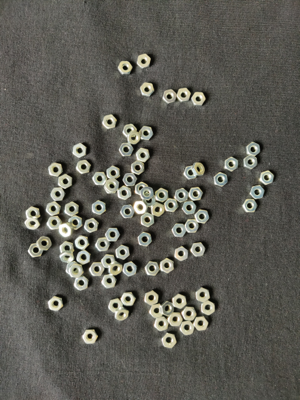nut: (83, 329, 99, 345), (162, 333, 177, 349), (48, 296, 63, 312), (193, 316, 209, 331), (196, 287, 211, 303), (36, 236, 52, 251), (84, 218, 99, 234), (92, 200, 107, 216), (102, 114, 118, 129), (191, 92, 207, 107), (180, 321, 195, 336), (154, 317, 169, 332), (191, 242, 206, 257), (145, 262, 160, 277), (102, 274, 117, 289), (74, 276, 89, 291), (69, 264, 84, 279), (68, 216, 83, 231), (48, 163, 63, 178), (243, 155, 258, 170), (140, 186, 155, 201), (105, 178, 120, 193), (76, 160, 91, 175), (136, 148, 151, 163), (139, 126, 154, 141), (121, 293, 137, 307), (95, 238, 111, 252), (138, 232, 152, 248), (47, 216, 63, 230), (25, 217, 41, 231), (46, 202, 62, 216), (120, 205, 136, 219), (182, 201, 198, 215), (137, 54, 151, 70), (168, 313, 183, 327), (202, 301, 216, 316), (182, 307, 197, 321), (173, 294, 187, 309), (160, 301, 174, 316), (145, 291, 159, 306), (115, 307, 129, 322), (175, 247, 189, 262), (123, 262, 137, 277), (90, 263, 105, 277), (108, 262, 123, 276), (75, 236, 90, 250), (28, 244, 43, 258), (105, 228, 120, 242), (185, 219, 200, 233), (195, 210, 210, 224), (59, 223, 73, 238), (65, 202, 79, 217), (59, 174, 73, 189), (141, 213, 155, 228), (250, 185, 265, 199), (214, 172, 228, 187), (225, 157, 239, 172), (189, 187, 204, 201), (175, 189, 190, 203), (164, 199, 179, 213), (151, 202, 165, 217), (155, 188, 169, 203), (123, 173, 138, 187), (93, 172, 108, 186), (73, 143, 87, 158), (119, 143, 134, 157), (177, 88, 191, 103), (163, 90, 177, 105), (141, 82, 155, 97), (161, 258, 174, 274), (109, 299, 123, 313), (102, 255, 116, 269), (77, 251, 91, 265), (116, 246, 130, 260), (246, 143, 260, 157), (192, 163, 206, 177), (134, 201, 148, 215), (135, 182, 149, 196), (118, 186, 132, 200), (131, 161, 145, 175), (123, 124, 137, 138), (60, 251, 75, 264), (172, 224, 187, 237), (51, 188, 66, 201), (243, 200, 258, 213), (260, 172, 275, 185), (143, 193, 156, 208), (128, 130, 141, 145), (118, 62, 133, 75), (66, 262, 80, 275), (184, 166, 197, 180), (107, 166, 120, 180), (26, 207, 41, 219), (150, 305, 163, 318), (60, 242, 75, 253), (104, 184, 117, 194)
